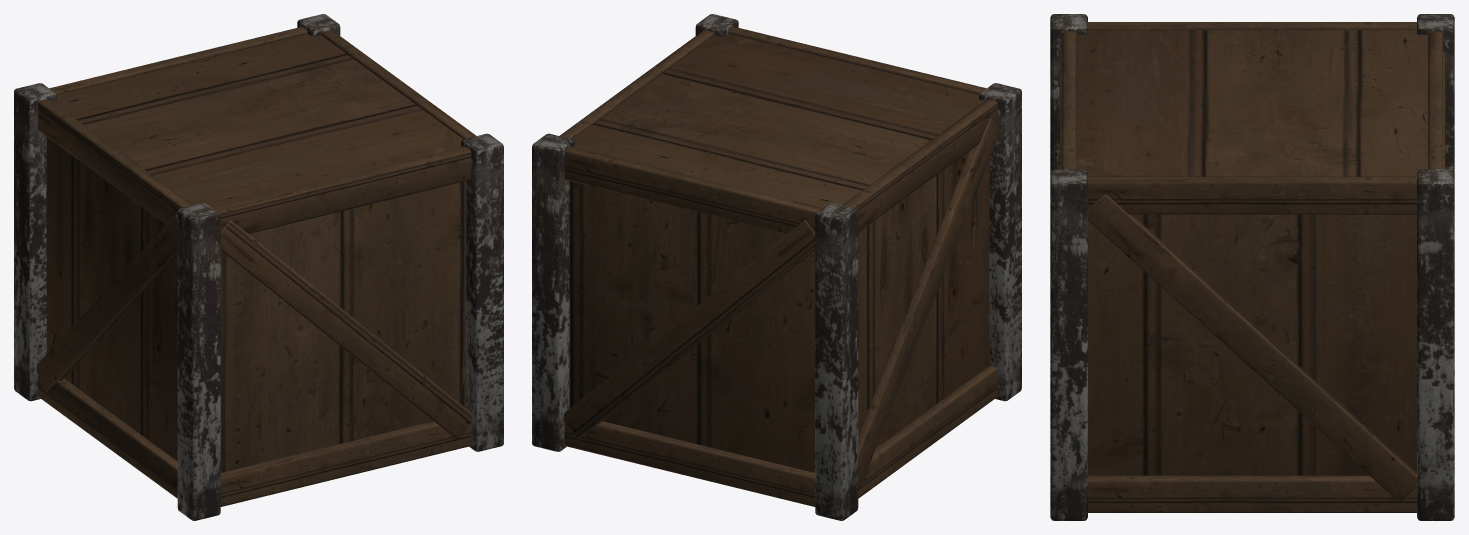
File: prop_crate.glb
3 views of the same model, side by side, from view 1: azimuth 30°, elevation 25°; view 2: azimuth 150°, elevation 25°; view 3: azimuth 270°, elevation 25° (orthographic). The views are drawn at different scales.
Parts seen in each view (by area): view 1: Core, Corner.003, Corner.002, Corner.001, Brace.001, Rail.005, Rail.001, Brace.003, Rail.007, Rail.003, Rail.004, Rail.006 (+1 smaller); view 2: Core, Corner.001, Corner, Corner.003, Brace, Rail.004, Rail, Brace.003, Rail.007, Rail.003, Rail.005, Rail.006 (+1 smaller); view 3: Core, Brace.002, Corner, Corner.002, Rail.006, Rail.002, Rail.007, Rail.004, Rail.005, Corner.001, Corner.003.
Boxes of the visible parts, left/top/right/bottom form: Core: left=46, top=33, right=466, bottom=472; Corner.003: left=177, top=203, right=220, bottom=520; Corner.002: left=461, top=133, right=503, bottom=451; Corner.001: left=14, top=83, right=56, bottom=401; Brace.001: left=220, top=220, right=472, bottom=439; Rail.005: left=213, top=146, right=471, bottom=233; Rail.001: left=220, top=421, right=471, bottom=506; Brace.003: left=36, top=214, right=177, bottom=392; Rail.007: left=38, top=99, right=192, bottom=224; Rail.003: left=38, top=376, right=177, bottom=498; Rail.004: left=49, top=26, right=307, bottom=94; Rail.006: left=321, top=30, right=476, bottom=139; Core: left=569, top=33, right=989, bottom=472; Corner.001: left=815, top=203, right=858, bottom=520; Corner: left=532, top=133, right=574, bottom=451; Corner.003: left=979, top=83, right=1021, bottom=401; Brace: left=563, top=220, right=815, bottom=439; Rail.004: left=564, top=146, right=822, bottom=233; Rail: left=564, top=421, right=815, bottom=506; Brace.003: left=858, top=118, right=999, bottom=488; Rail.007: left=843, top=99, right=997, bottom=231; Rail.003: left=858, top=365, right=997, bottom=498; Rail.005: left=728, top=26, right=986, bottom=94; Rail.006: left=559, top=30, right=714, bottom=139; Core: left=1076, top=30, right=1428, bottom=475; Brace.002: left=1088, top=194, right=1416, bottom=501; Corner: left=1417, top=169, right=1454, bottom=520; Corner.002: left=1050, top=169, right=1087, bottom=520; Rail.006: left=1088, top=176, right=1416, bottom=214; Rail.002: left=1088, top=475, right=1416, bottom=512; Rail.007: left=1088, top=22, right=1416, bottom=30; Rail.004: left=1428, top=31, right=1443, bottom=168; Rail.005: left=1061, top=31, right=1076, bottom=168; Corner.001: left=1417, top=14, right=1454, bottom=171; Corner.003: left=1050, top=14, right=1087, bottom=171.
Size of the model in its own units: 1.08 by 1 by 1.08.
Materials: 2 (2 with a texture image).
